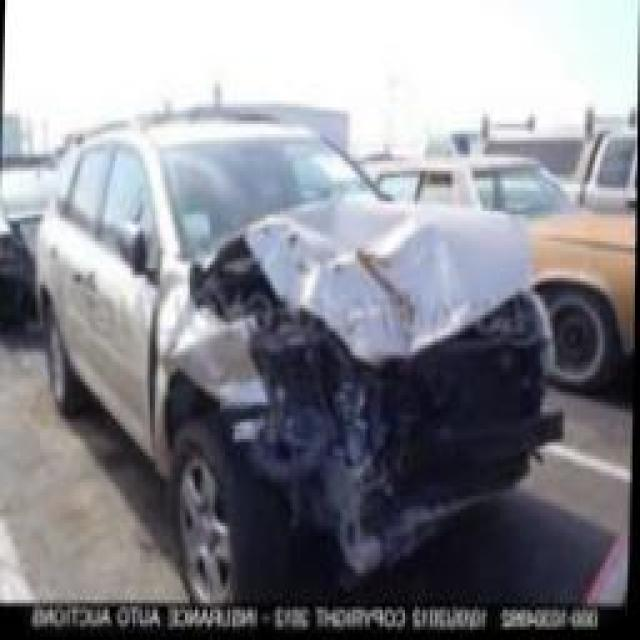Bonnet: (205, 199, 533, 368)
Bumper: (228, 397, 557, 570)
Fender: (151, 259, 279, 470)
Light: (255, 343, 365, 437)
